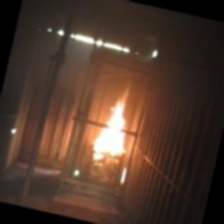fire: (86, 79, 140, 166)
